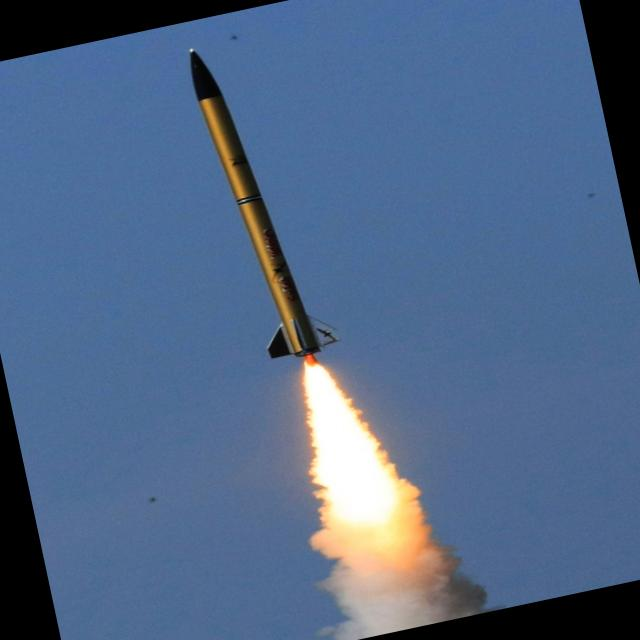rocket: (170, 23, 355, 502)
